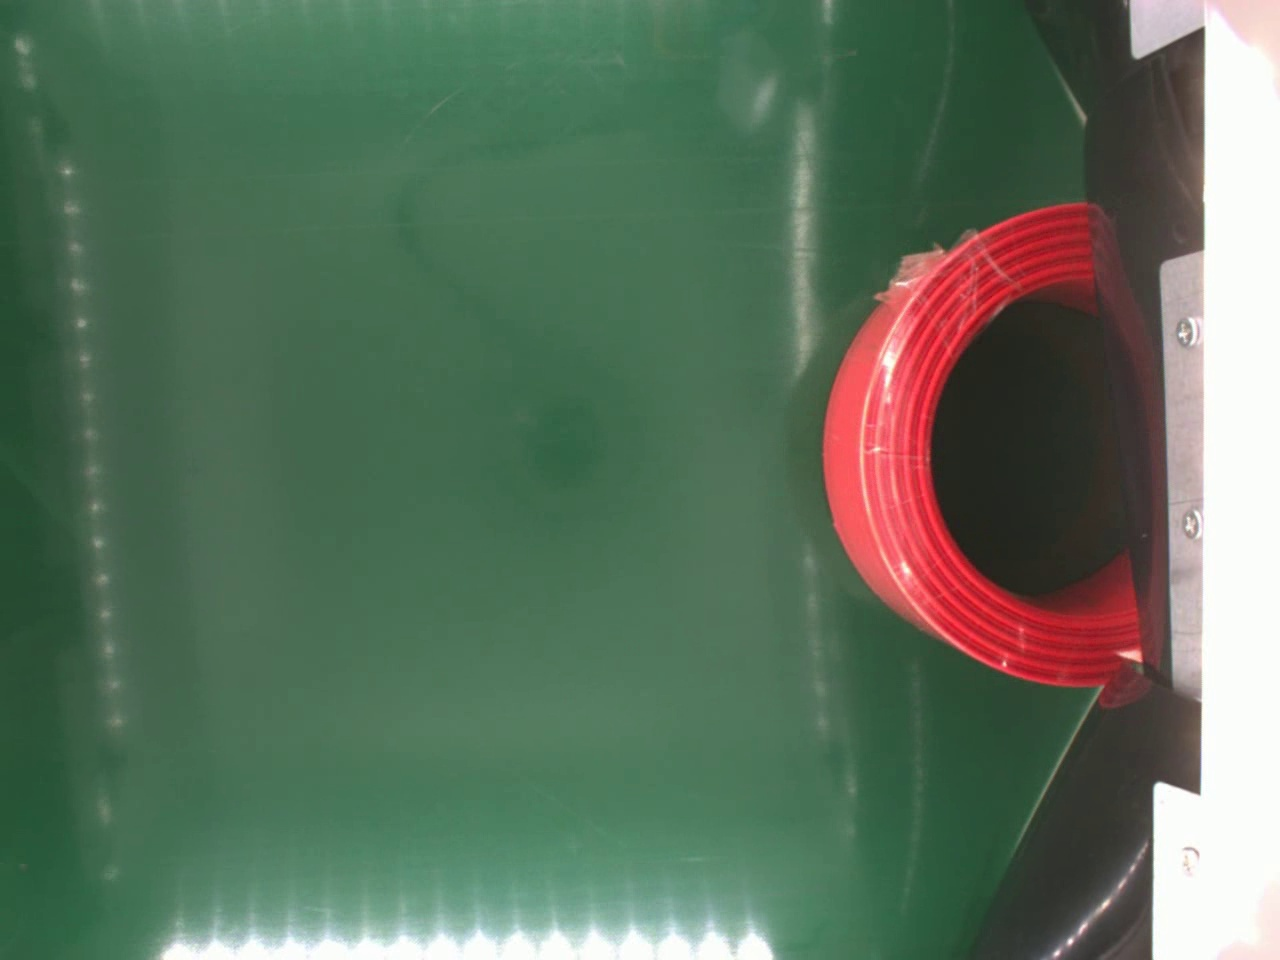red: (820, 204, 1140, 686)
